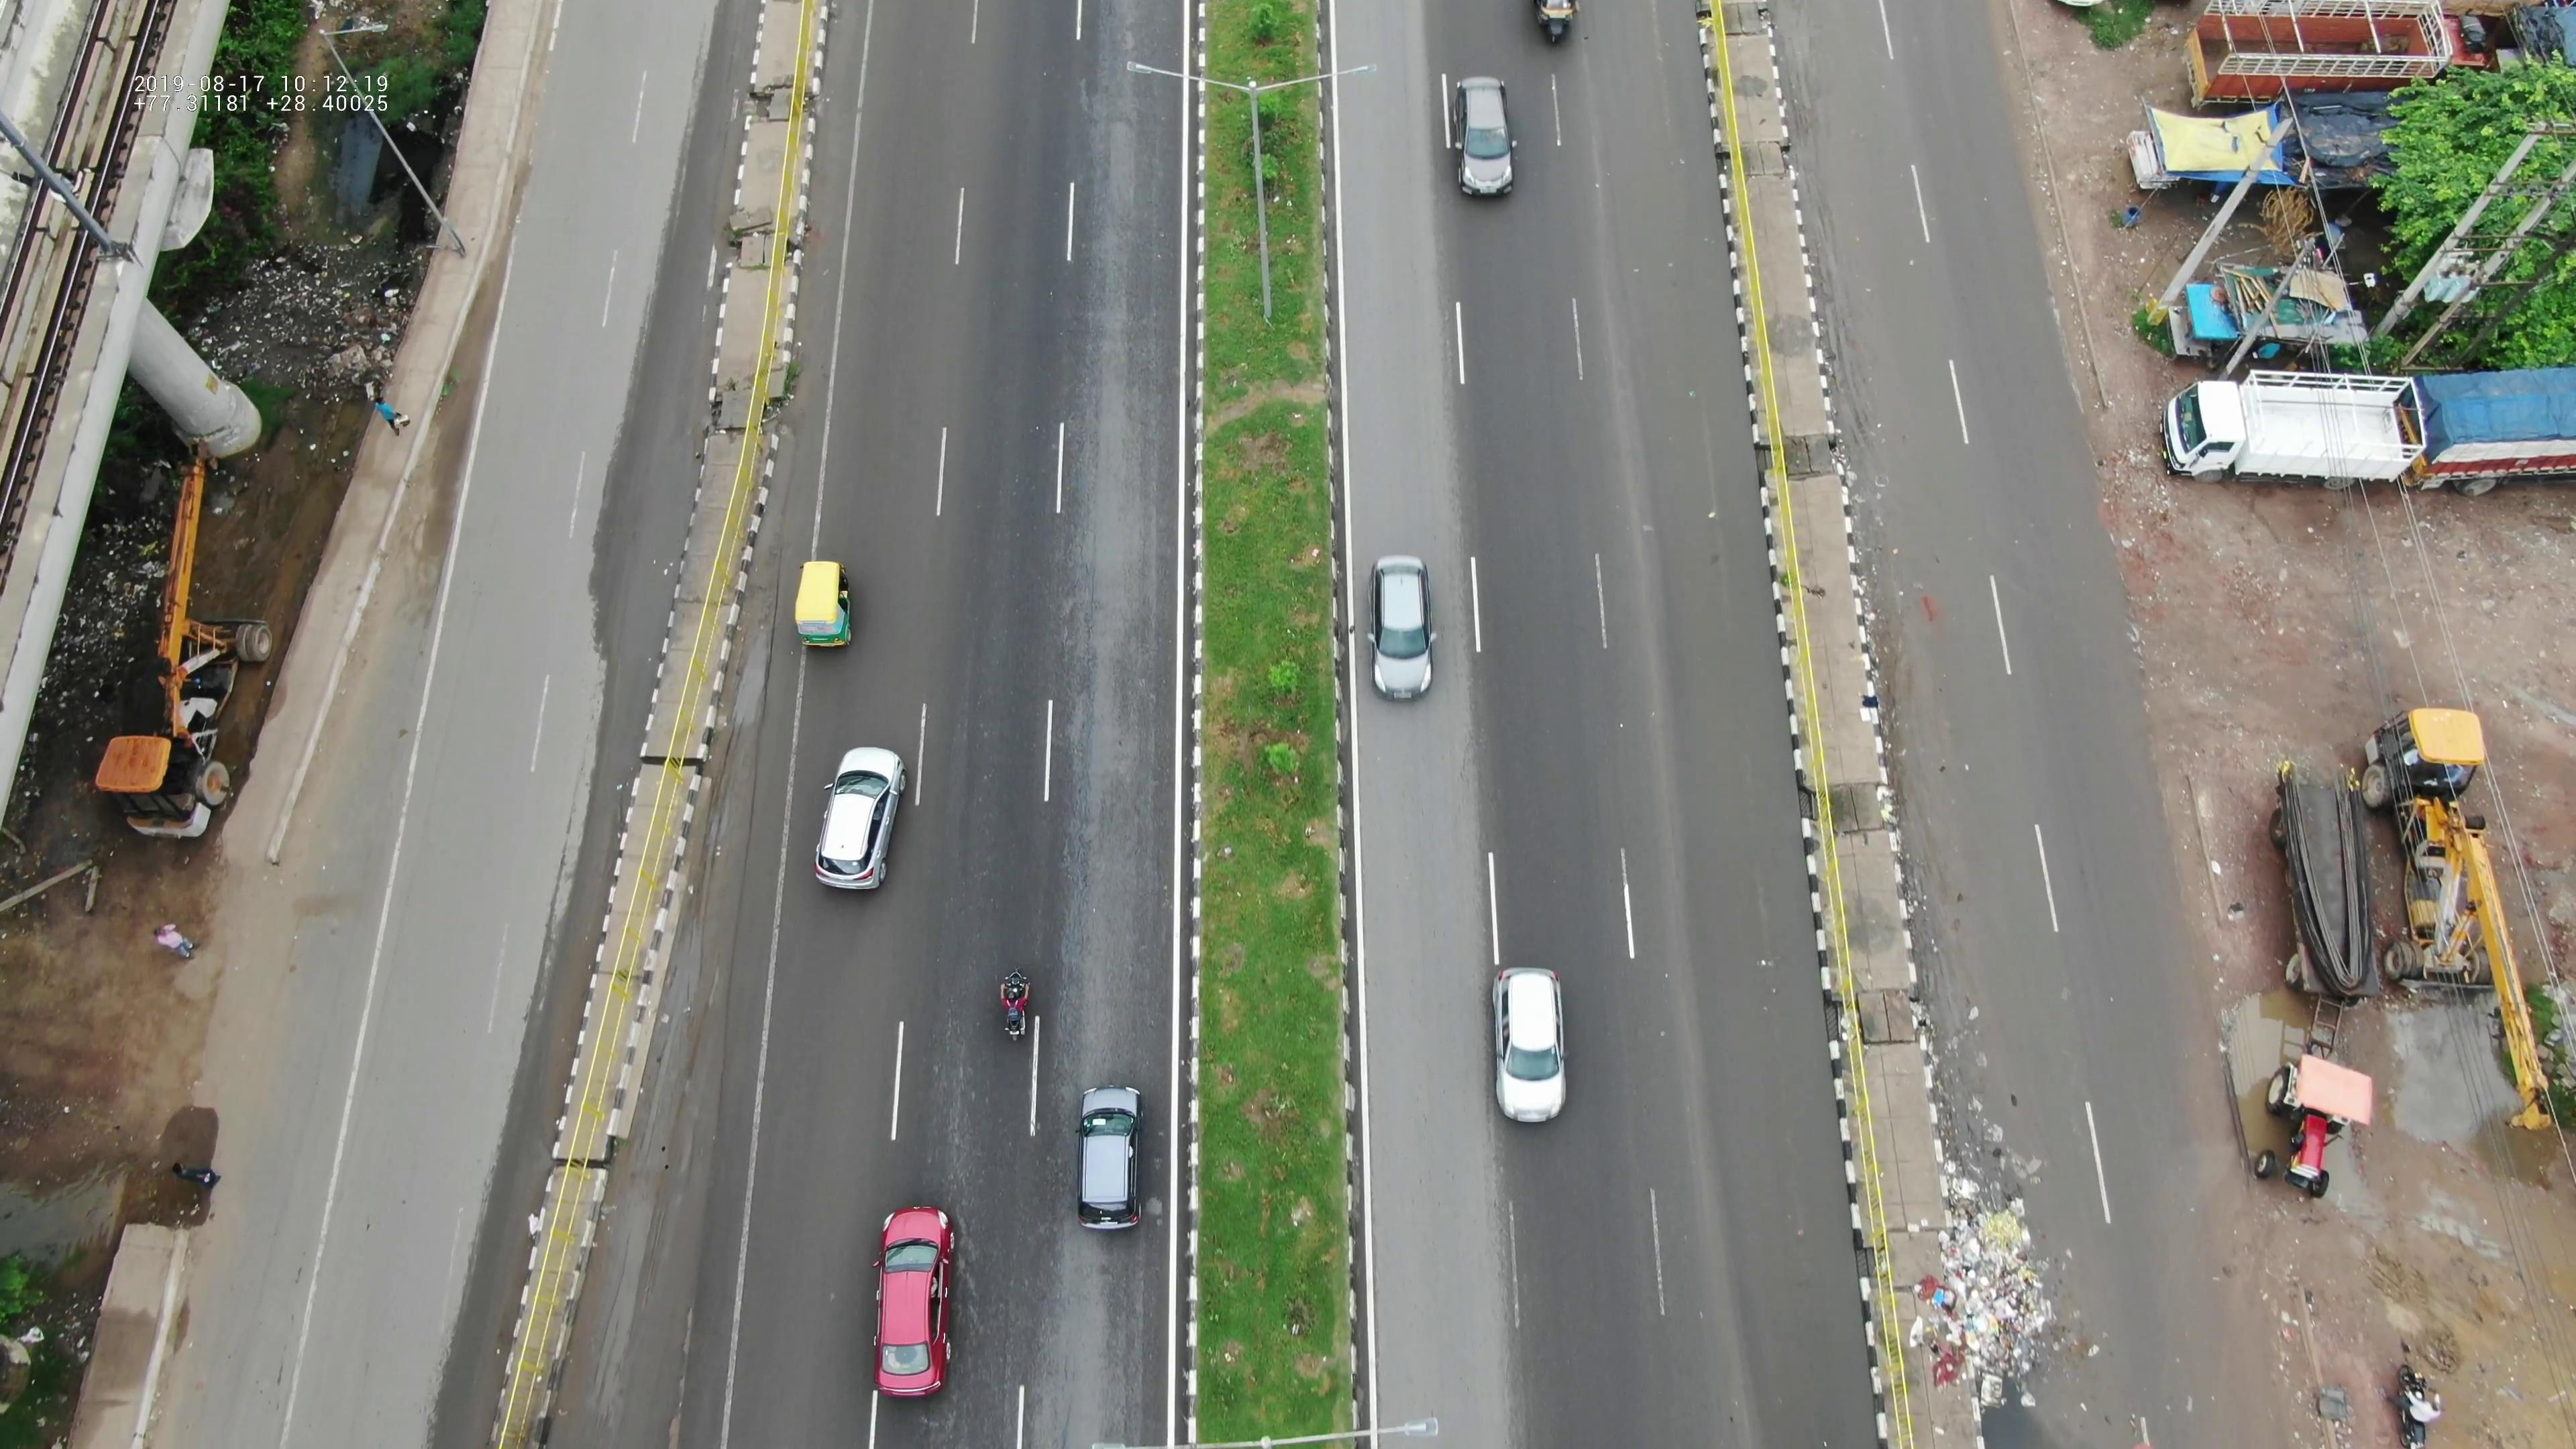Road_side_garbage: (1913, 1162, 2068, 1430)
